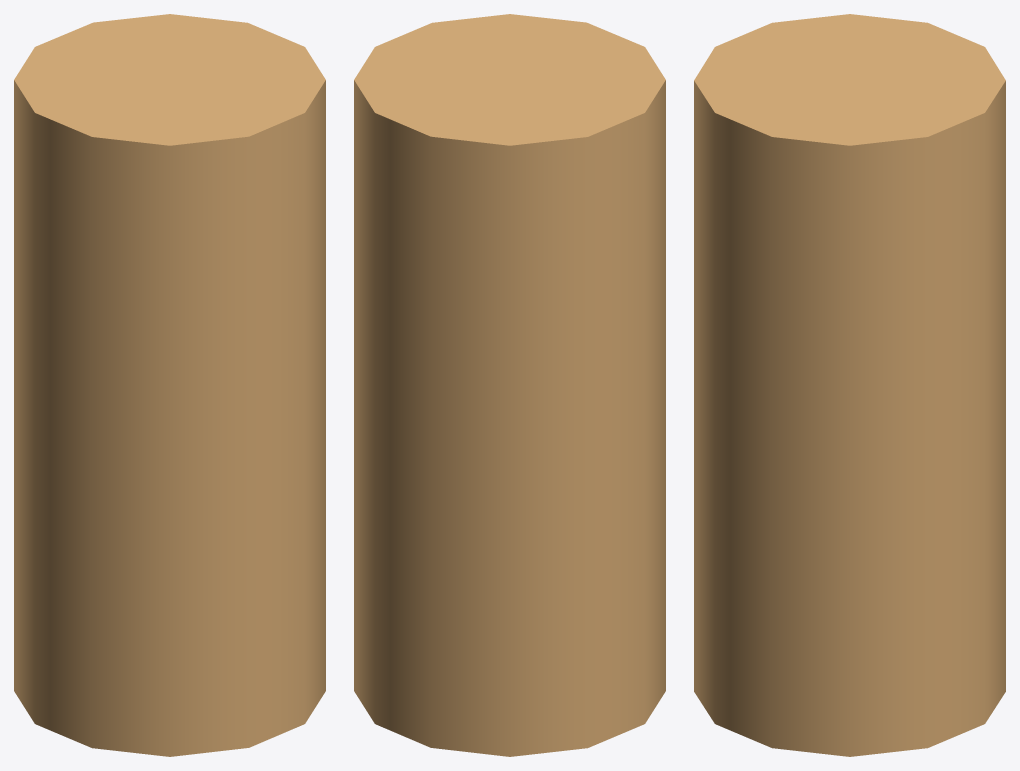
File: Wood.fbx
3 renders of one model, left to right at view 1: azimuth 30°, elevation 25°; view 2: azimuth 150°, elevation 25°; view 3: azimuth 270°, elevation 25°, orthographic.
Parts seen in each view (by area): view 1: tree_4.017; view 2: tree_4.017; view 3: tree_4.017.
Boxes of the visible parts, box(x1,y1,x2,y2) form: tree_4.017: box(14, 14, 325, 756); tree_4.017: box(354, 14, 665, 756); tree_4.017: box(694, 14, 1005, 756).
Size of the model in its own units: 37 by 80.01 by 37.
